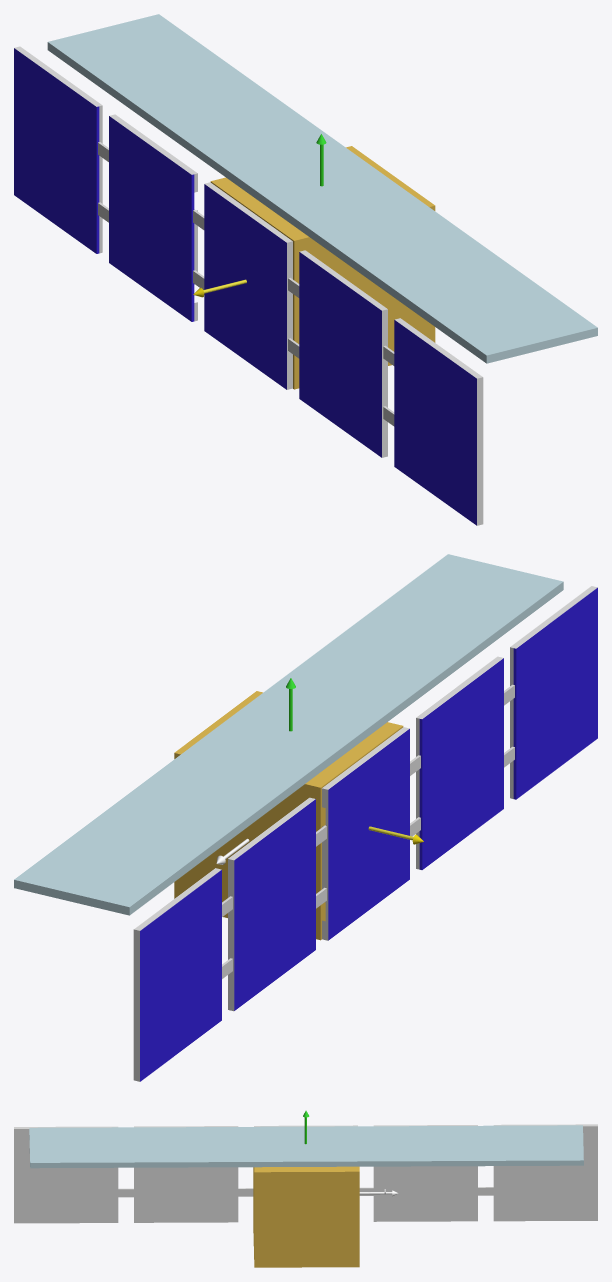
3 renders of one model, top to bottom at view 1: azimuth 30°, elevation 25°; view 2: azimuth 150°, elevation 25°; view 3: azimuth 270°, elevation 25°, orthographic. The views are drawn at different scales.
Parts seen in each view (by area): view 1: SOLP, RAD, Plane, Cube, SOLP_connection; view 2: SOLP, RAD, Plane, Cube, SOLP_connection; view 3: Plane, RAD, Cube, SOLP_connection.
Part boxes in pixels (x1=…): SOLP: x1=14, y1=48, x2=476, y2=525; RAD: x1=47, y1=14, x2=597, y2=363; Plane: x1=14, y1=46, x2=483, y2=525; Cube: x1=210, y1=146, x2=435, y2=389; SOLP_connection: x1=98, y1=142, x2=394, y2=426; SOLP: x1=140, y1=587, x2=597, y2=1081; RAD: x1=14, y1=554, x2=563, y2=915; Plane: x1=133, y1=586, x2=597, y2=1081; Cube: x1=174, y1=691, x2=403, y2=940; SOLP_connection: x1=222, y1=684, x2=514, y2=978; Plane: x1=14, y1=1124, x2=597, y2=1223; RAD: x1=29, y1=1125, x2=583, y2=1168; Cube: x1=253, y1=1166, x2=359, y2=1267; SOLP_connection: x1=118, y1=1187, x2=493, y2=1197.
Bounding box in the file's own units: 2.72 × 2.68 × 10.55.
